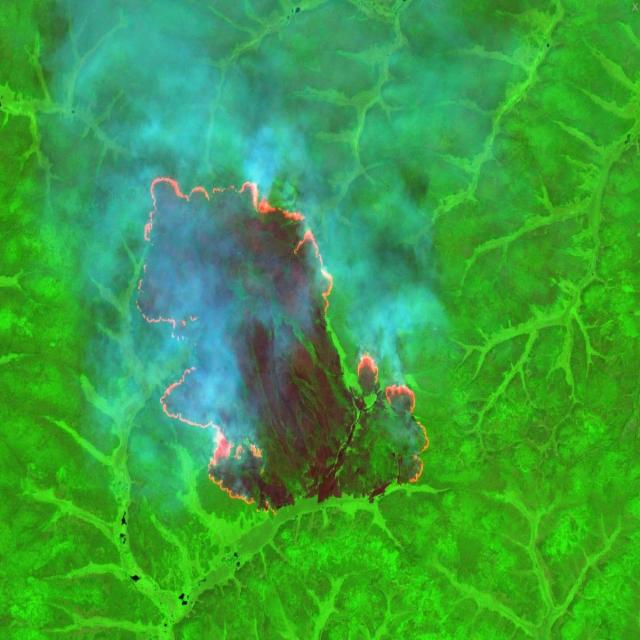fire: (132, 166, 437, 527)
